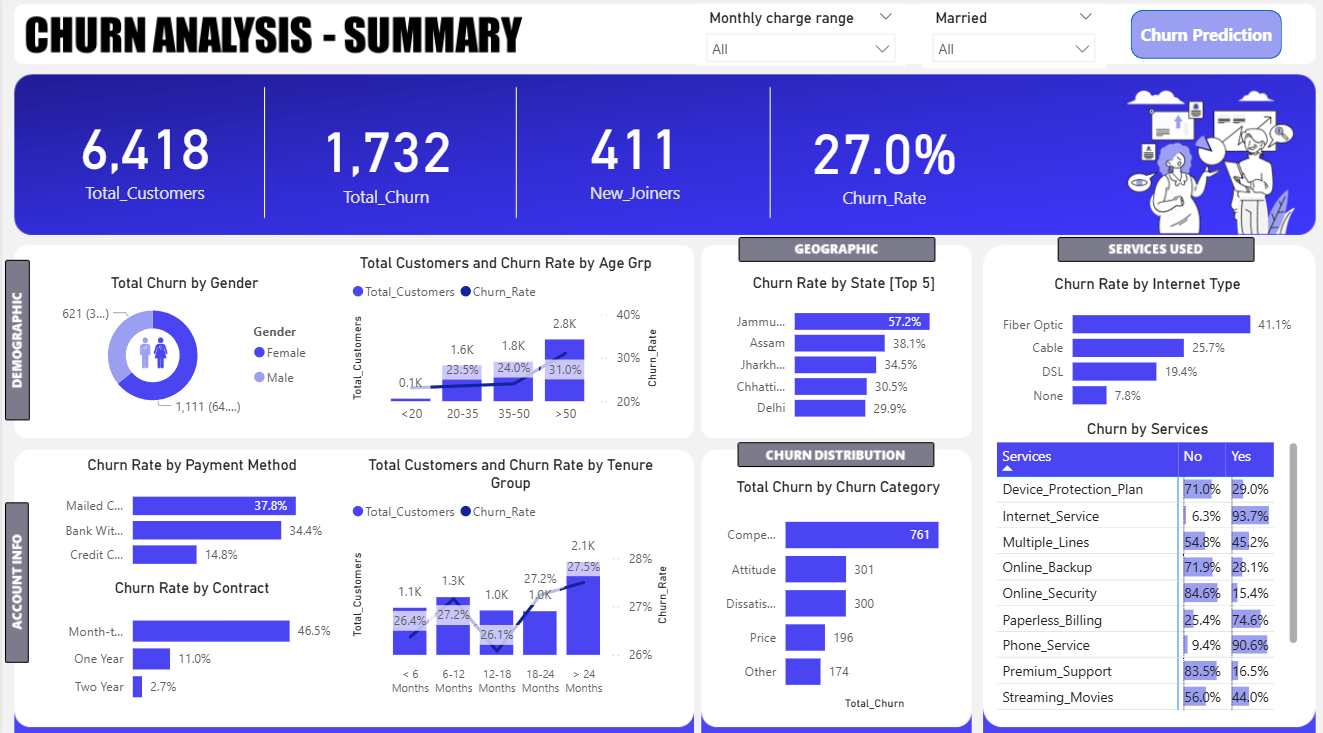

The page's visual inventory and layout, read from the dashboard file:
{"tool":"powerbi","page":{"name":"Summary","canvas":[1280,720],"ordinal":0},"visuals":[{"type":"image","box":[97.7,320.9,97.7,48.3],"z":0},{"type":"card","fields":{"Values":["tbl_Measures.Total_Customers"]},"box":[30.2,85.7,216,133.9],"z":1000},{"type":"card","fields":{"Values":["tbl_Measures.Total_Churn"]},"box":[257,92.9,228,126.7],"z":2000},{"type":"card","fields":{"Values":["tbl_Measures.New_Joiners"]},"box":[501.9,85.7,218.4,133.9],"z":3000},{"type":"card","fields":{"Values":["tbl_Measures.Churn_Rate"]},"box":[748,94.1,207.5,126.7],"z":4000},{"type":"donutChart","title":"Total Churn by Gender","fields":{"Category":["prod_Churn.Gender"],"Y":["tbl_Measures.Total_Churn"]},"box":[43.4,269,265.4,141.2],"z":5000},{"type":"lineStackedColumnComboChart","title":"Total Customers and Churn Rate by Age Grp","fields":{"Category":["mapping_AgeGrp.Age_Grp"],"Y":["tbl_Measures.Total_Customers"],"Y2":["tbl_Measures.Churn_Rate"]},"box":[333,249.7,306.4,172.5],"z":6000},{"type":"clusteredBarChart","title":"Churn Rate by Payment Method","fields":{"Category":["prod_Churn.Payment_Method"],"Y":["tbl_Measures.Churn_Rate"]},"box":[43.4,445.2,279.9,119.4],"z":7000},{"type":"clusteredBarChart","title":"Churn Rate by Contract","fields":{"Category":["prod_Churn.Contract"],"Y":["tbl_Measures.Churn_Rate"]},"box":[43.4,563.4,279.9,131.5],"z":8000},{"type":"lineStackedColumnComboChart","title":"Total Customers and Churn Rate by Tenure Group","fields":{"Category":["mapping_TenureGrp.Tenure_Group"],"Y":["tbl_Measures.Total_Customers"],"Y2":["tbl_Measures.Churn_Rate"]},"box":[333,445.2,316.1,238.9],"z":9000},{"type":"clusteredBarChart","title":"Churn Rate by State [Top 5]","fields":{"Category":["prod_Churn.State"],"Y":["tbl_Measures.Churn_Rate"]},"box":[691.3,269,242.5,152],"z":10000},{"type":"clusteredBarChart","title":"Total Churn by Churn Category","fields":{"Category":["prod_Churn.Churn_Category"],"Y":["tbl_Measures.Total_Churn"]},"box":[680.4,465.7,253.4,229.2],"z":11000},{"type":"clusteredBarChart","title":"Churn Rate by Internet Type","fields":{"Category":["prod_Churn.Internet_Type"],"Y":["tbl_Measures.Churn_Rate"]},"box":[955.5,270.2,300.4,139.9],"z":12000},{"type":"pivotTable","title":"Churn by Services","fields":{"Rows":["prod_Services.Services"],"Columns":["prod_Services.Status"],"Values":["Sum(prod_Services.Churn_Status)"]},"box":[955.5,410.2,300.4,284.7],"z":13000},{"type":"slicer","fields":{"Values":["prod_Churn.Married"]},"box":[887.9,8.4,177.3,62.7],"z":14000},{"type":"slicer","fields":{"Values":["prod_Services.Monthly_Charge_Status"]},"box":[669.6,8.4,202.7,60.3],"z":15000},{"type":"shape","box":[1089.4,14.5,146,47.1],"z":15001}]}

Visuals, with their boxes in screenshot pixels (x1, y1, x2, y2), scaled from the page's 1280x720 canvas onto the 1323x733 screenshot:
image: 101, 327, 202, 376
card - tbl_Measures.Total_Customers: 31, 87, 254, 224
card - tbl_Measures.Total_Churn: 266, 95, 501, 224
card - tbl_Measures.New_Joiners: 519, 87, 744, 224
card - tbl_Measures.Churn_Rate: 773, 96, 988, 225
"Total Churn by Gender" donutChart: 45, 274, 319, 418
"Total Customers and Churn Rate by Age Grp" lineStackedColumnComboChart: 344, 254, 661, 430
"Churn Rate by Payment Method" clusteredBarChart: 45, 453, 334, 575
"Churn Rate by Contract" clusteredBarChart: 45, 574, 334, 707
"Total Customers and Churn Rate by Tenure Group" lineStackedColumnComboChart: 344, 453, 671, 696
"Churn Rate by State [Top 5]" clusteredBarChart: 715, 274, 965, 429
"Total Churn by Churn Category" clusteredBarChart: 703, 474, 965, 707
"Churn Rate by Internet Type" clusteredBarChart: 988, 275, 1298, 418
"Churn by Services" pivotTable: 988, 418, 1298, 707
slicer - prod_Churn.Married: 918, 9, 1101, 72
slicer - prod_Services.Monthly_Charge_Status: 692, 9, 902, 70
shape: 1126, 15, 1277, 63
